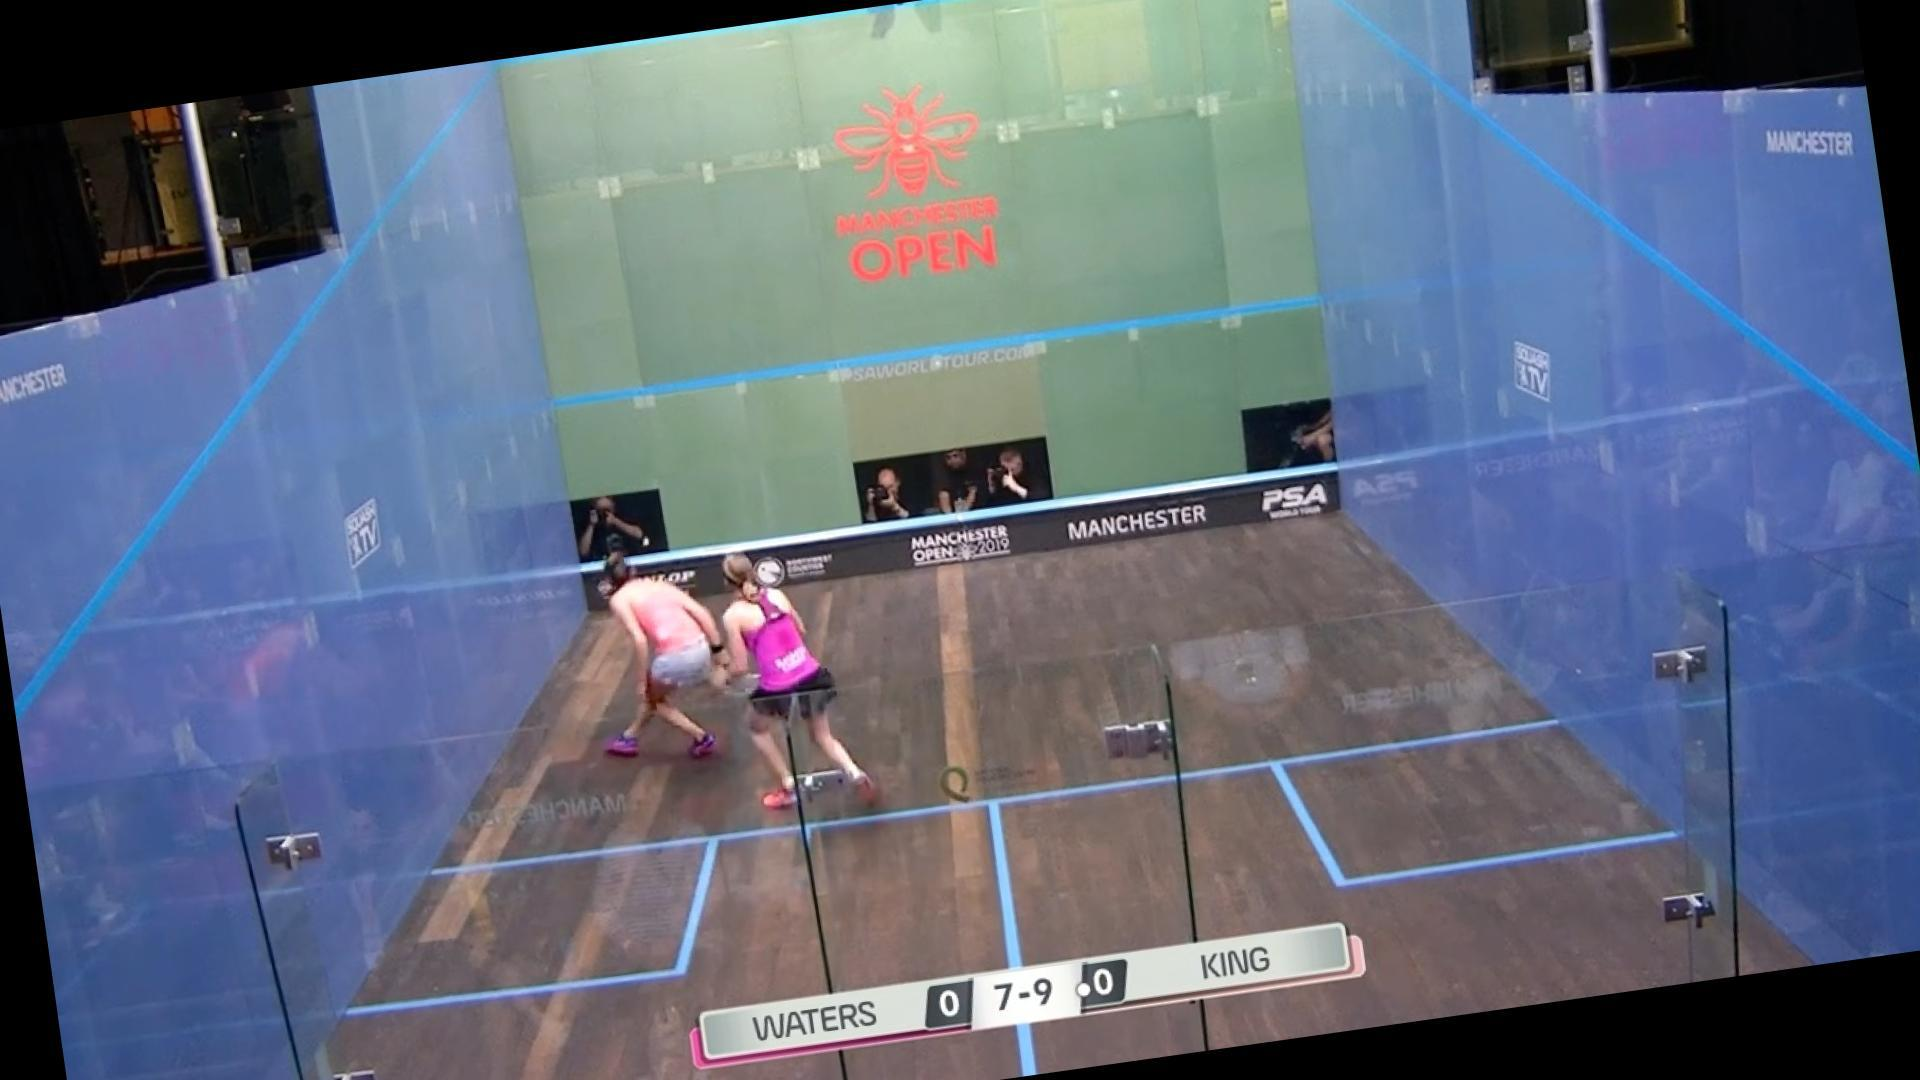Squash-Ball: (628, 524, 673, 568)
